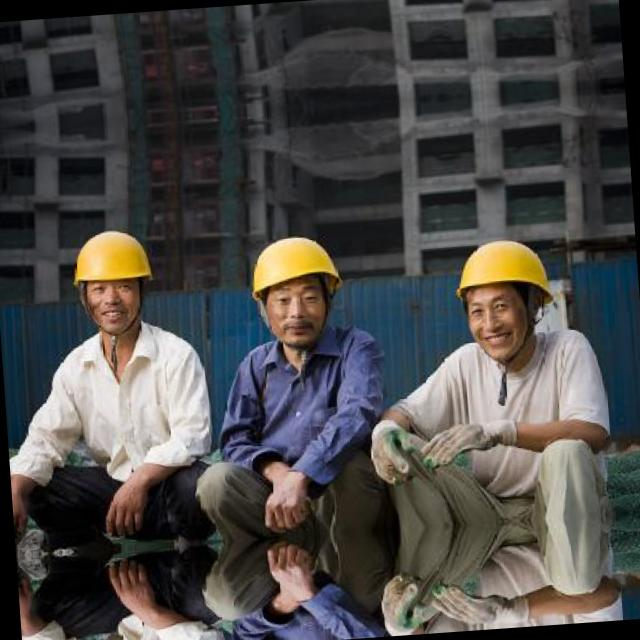helmet: (438, 224, 563, 369), (234, 216, 354, 356), (55, 210, 166, 346)
